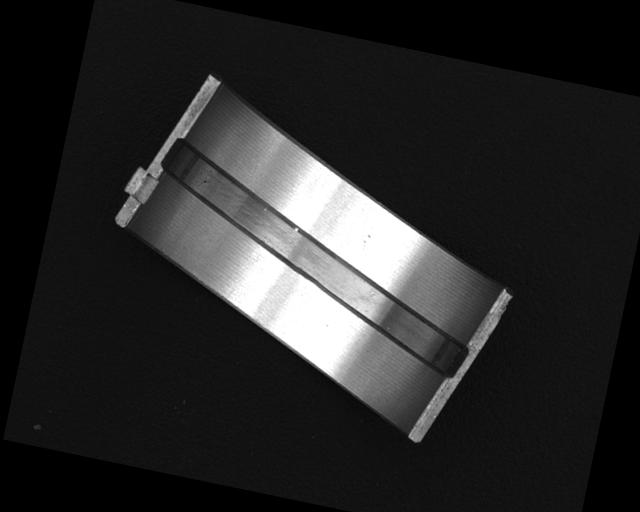gap: (130, 137, 499, 382)
